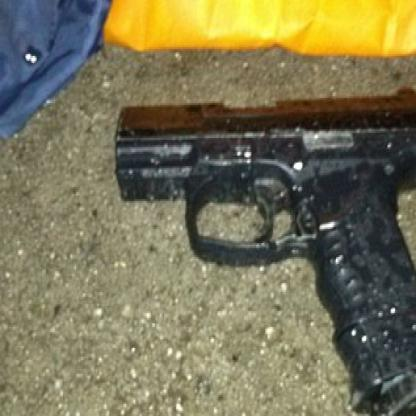gun: (107, 86, 414, 414)
